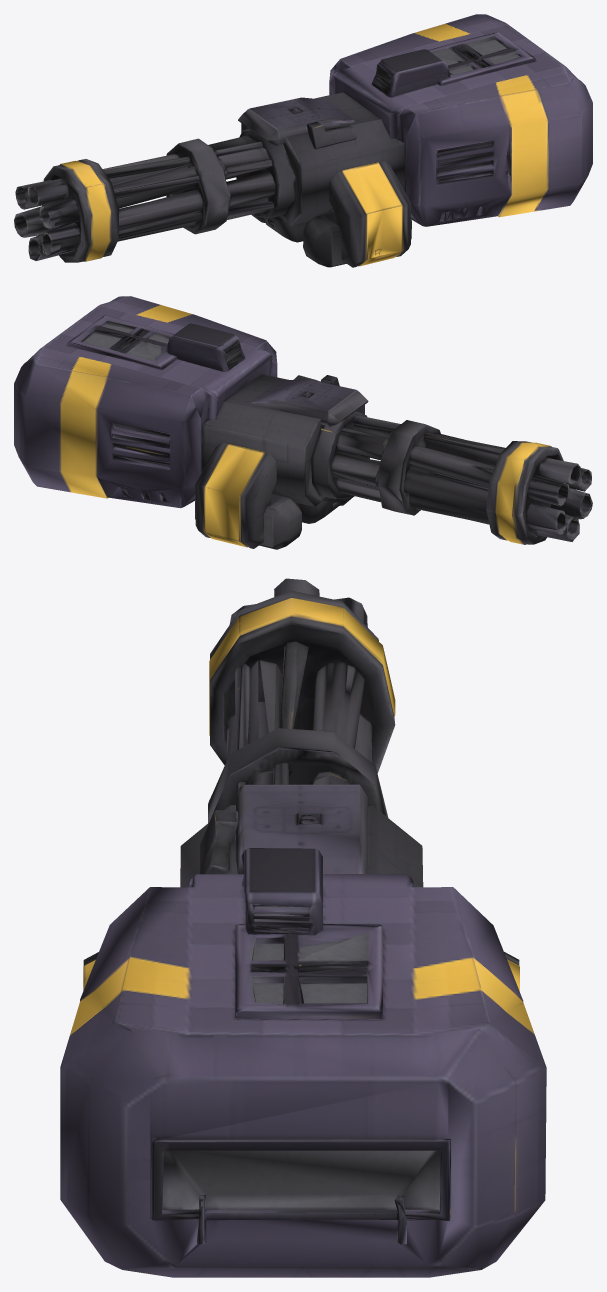
Rendered from turret_complete.glb.
The picture shows the model from 3 angles, top to bottom: view 1: azimuth 30°, elevation 25°; view 2: azimuth 150°, elevation 25°; view 3: azimuth 270°, elevation 25°; orthographic projection. The views are drawn at different scales.
Visible parts, largest first — view 1: Turret_Complete; view 2: Turret_Complete; view 3: Turret_Complete.
Boxes of the visible parts, bbox=[...] form: Turret_Complete: bbox=[14, 14, 592, 267]; Turret_Complete: bbox=[14, 296, 592, 549]; Turret_Complete: bbox=[60, 578, 546, 1277].
Size of the model in its own units: 0.9565 by 0.271 by 0.3843.
Materials: 1 (1 with a texture image).
